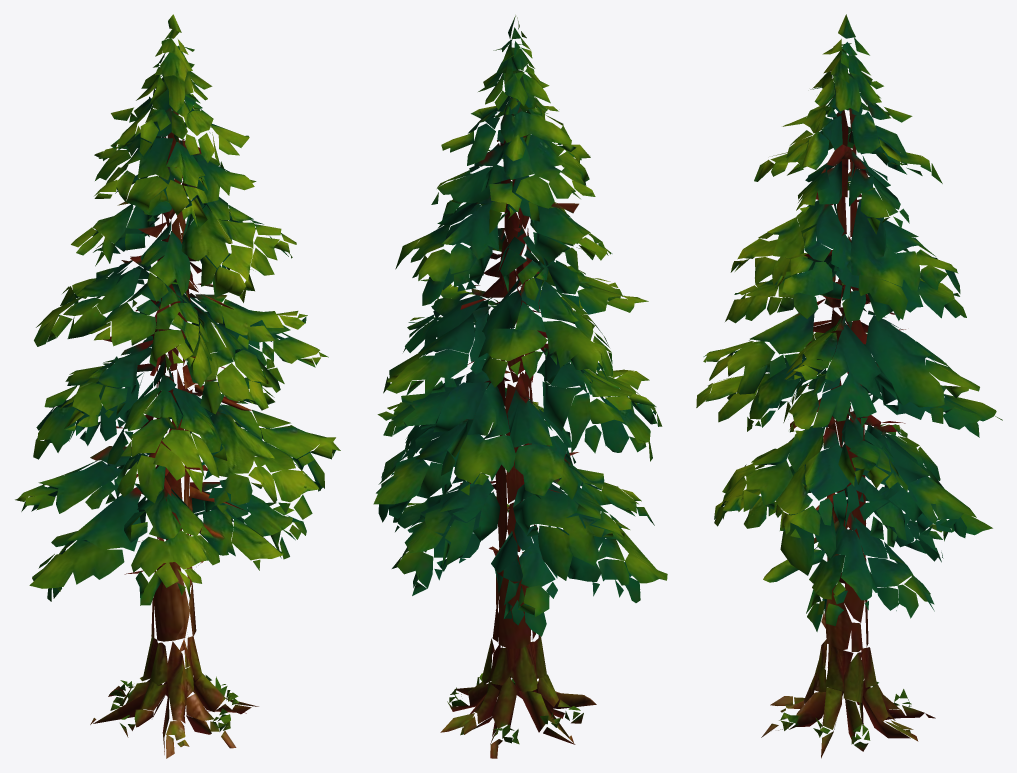
File: pinehi.glb
The picture shows the model from 3 angles, left to right: view 1: azimuth 30°, elevation 25°; view 2: azimuth 150°, elevation 25°; view 3: azimuth 270°, elevation 25°; orthographic projection.
Visible parts, largest first — view 1: tripo_node_9c755c0e-d0ed-45dc-a0de-238036035a68; view 2: tripo_node_9c755c0e-d0ed-45dc-a0de-238036035a68; view 3: tripo_node_9c755c0e-d0ed-45dc-a0de-238036035a68.
Part boxes in pixels (x1,y1,x2,y2): tripo_node_9c755c0e-d0ed-45dc-a0de-238036035a68: (15, 14, 340, 758); tripo_node_9c755c0e-d0ed-45dc-a0de-238036035a68: (373, 15, 667, 758); tripo_node_9c755c0e-d0ed-45dc-a0de-238036035a68: (696, 14, 1002, 758).
Size of the model in its own units: 1.92 by 4.44 by 1.72.
1 material, 1 textured.
